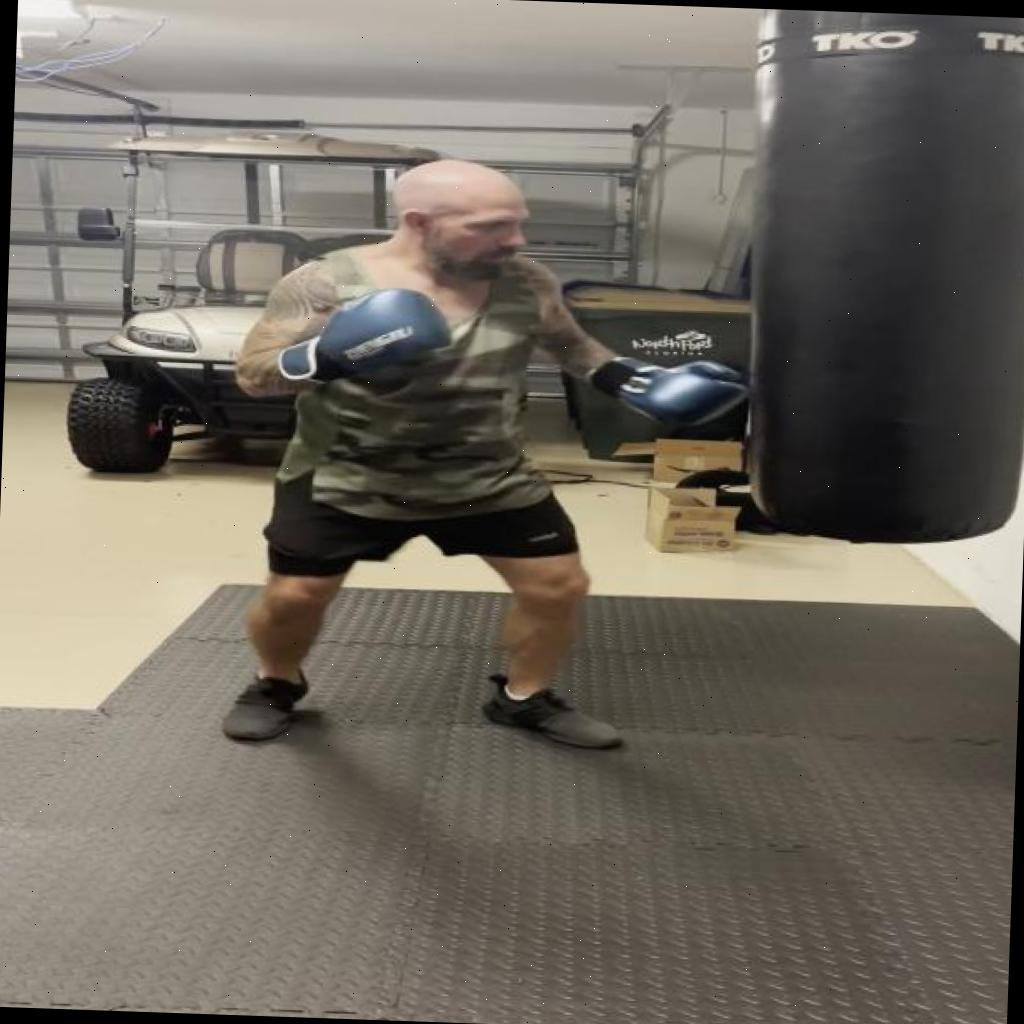bag: (731, 8, 1024, 554)
hook: (249, 124, 784, 453)
